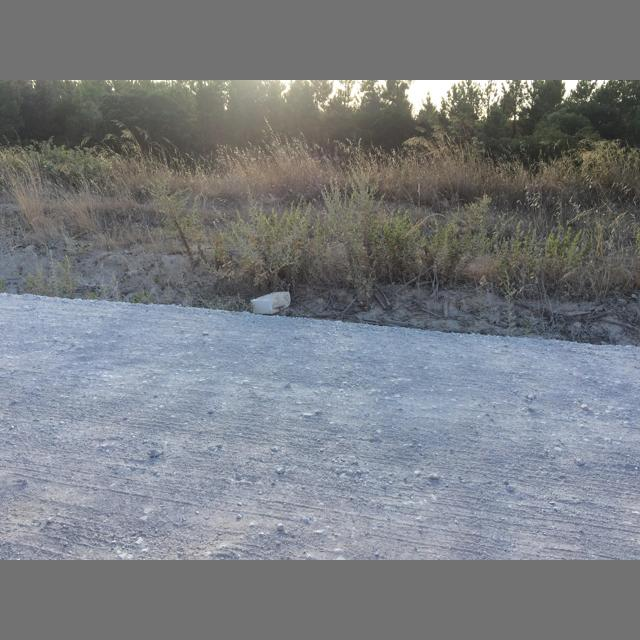litter: (251, 292, 291, 314), (478, 275, 487, 285)
